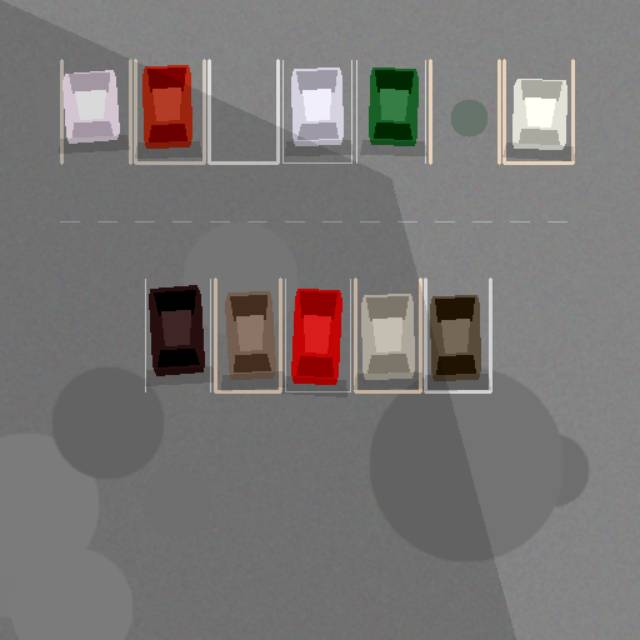space-empty: (209, 60, 278, 162), (430, 60, 499, 162)
space-occupied: (145, 279, 210, 391), (215, 279, 280, 391), (285, 279, 350, 391), (355, 279, 420, 391), (425, 279, 490, 391), (61, 60, 130, 162), (135, 60, 204, 162), (282, 60, 351, 162), (356, 60, 425, 162), (504, 60, 572, 162)
